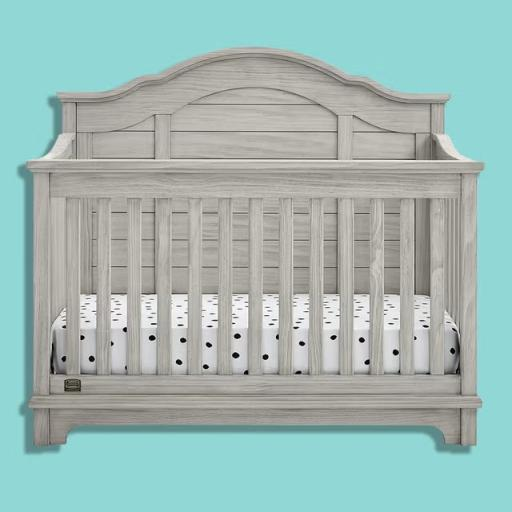crib: (28, 49, 483, 444)
